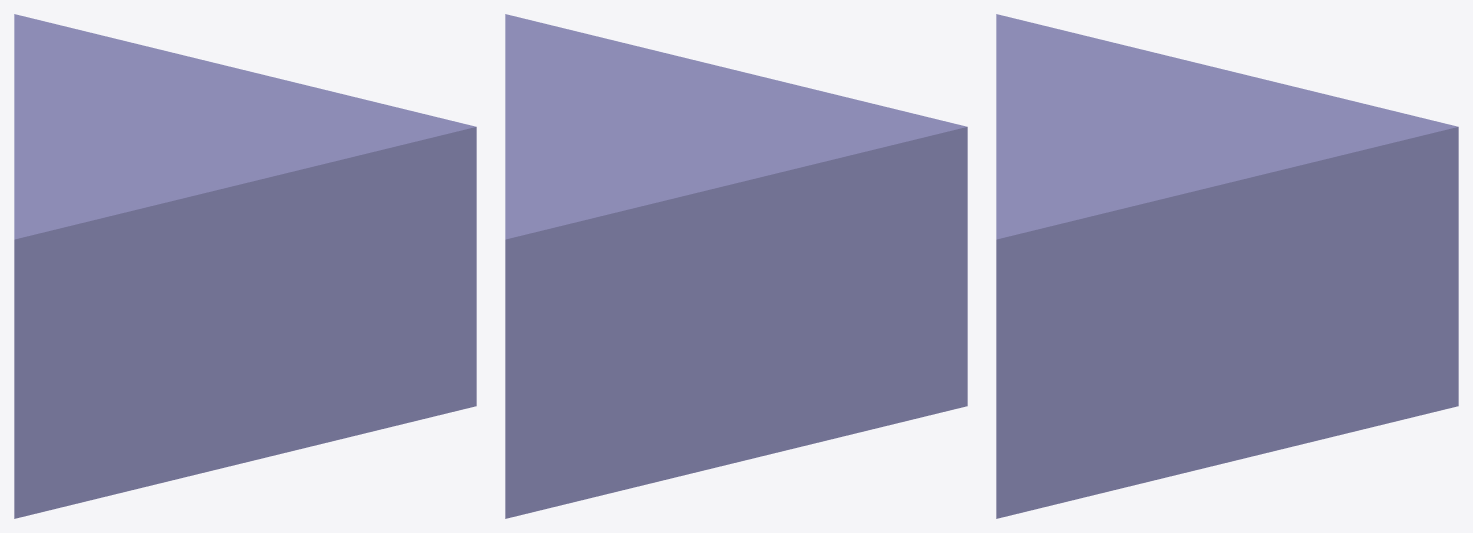
Rendered from asset.glb.
The picture shows the model from 3 angles, left to right: view 1: azimuth 30°, elevation 25°; view 2: azimuth 150°, elevation 25°; view 3: azimuth 270°, elevation 25°; orthographic projection.
Visible parts, largest first — view 1: 三角柱; view 2: 三角柱; view 3: 三角柱.
Boxes of the visible parts, x1,y1,x2,y2 form: 三角柱: (14, 14, 476, 518); 三角柱: (505, 14, 967, 518); 三角柱: (996, 14, 1458, 518).
Size of the model in its own units: 1.73 by 1 by 1.5.
